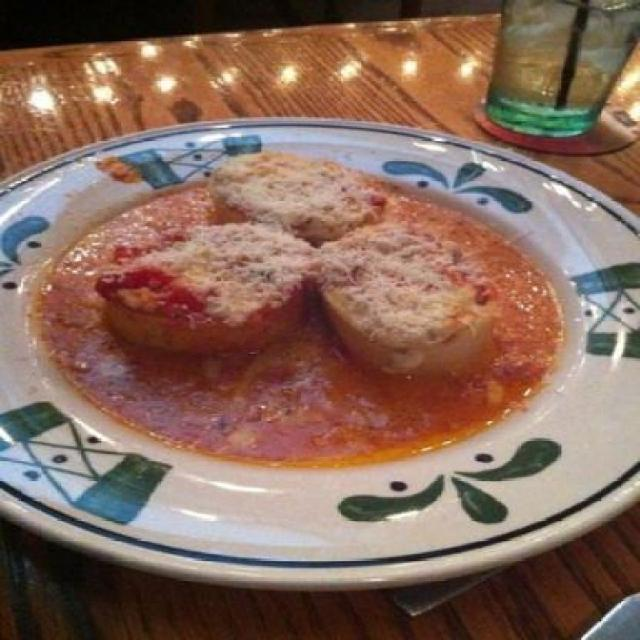Lasagna: (32, 120, 590, 472)
